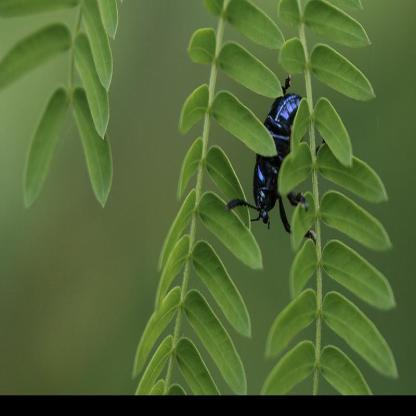beetle: (232, 72, 315, 233)
